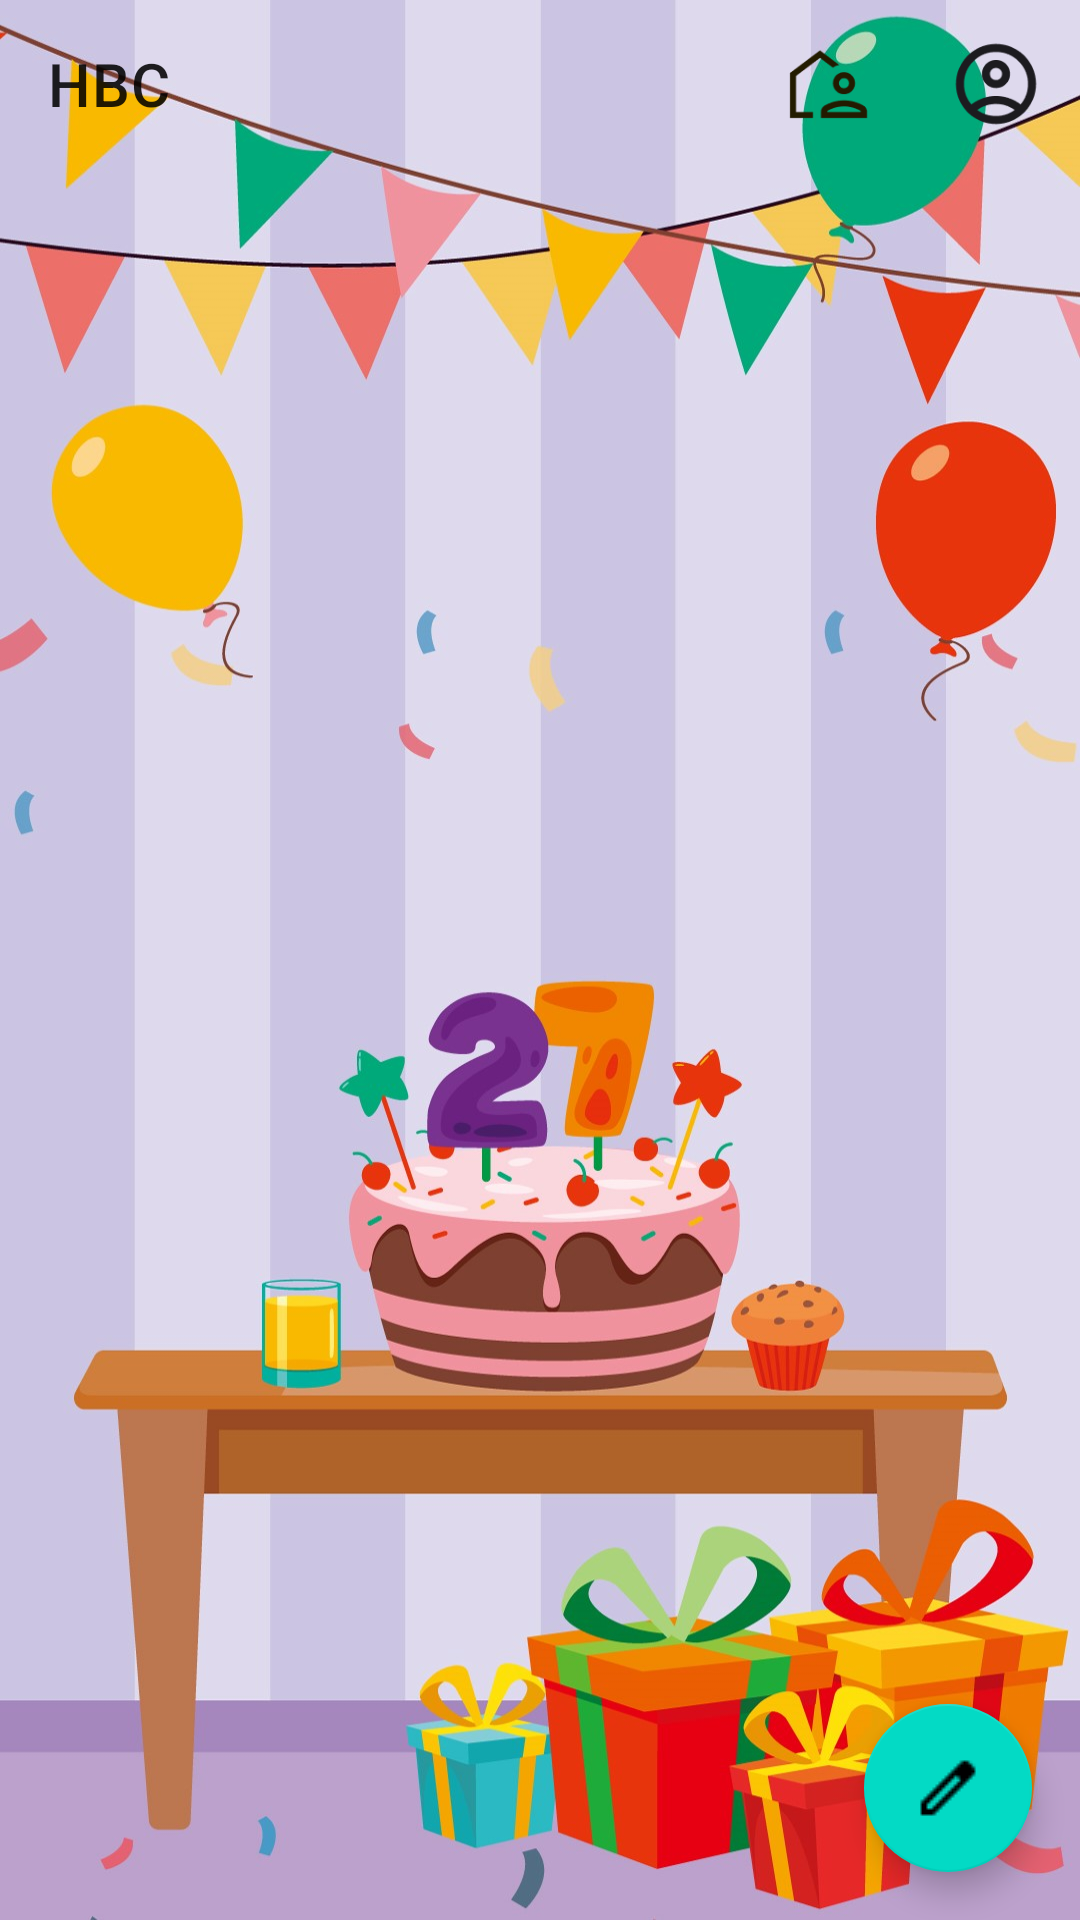

Point at icon controls on the screen. Image size 1080 × 1920, points as point (x, y).
write paper: point (948, 1788)
